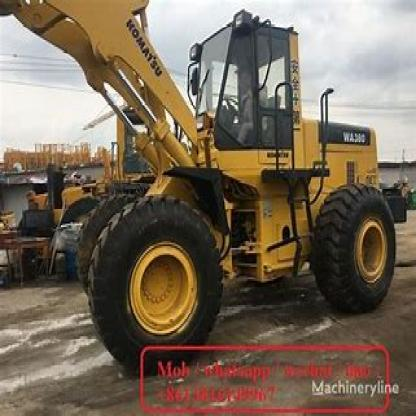bull_dozer/loader/grader: (0, 2, 412, 376)
